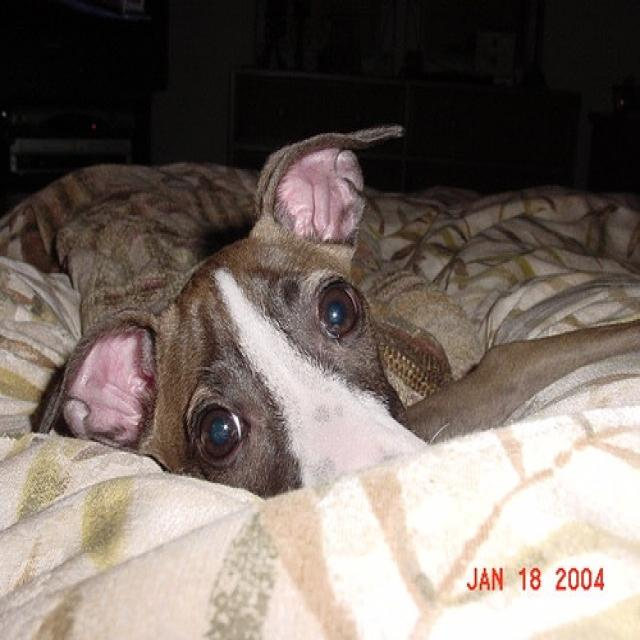dog: (45, 124, 637, 497)
